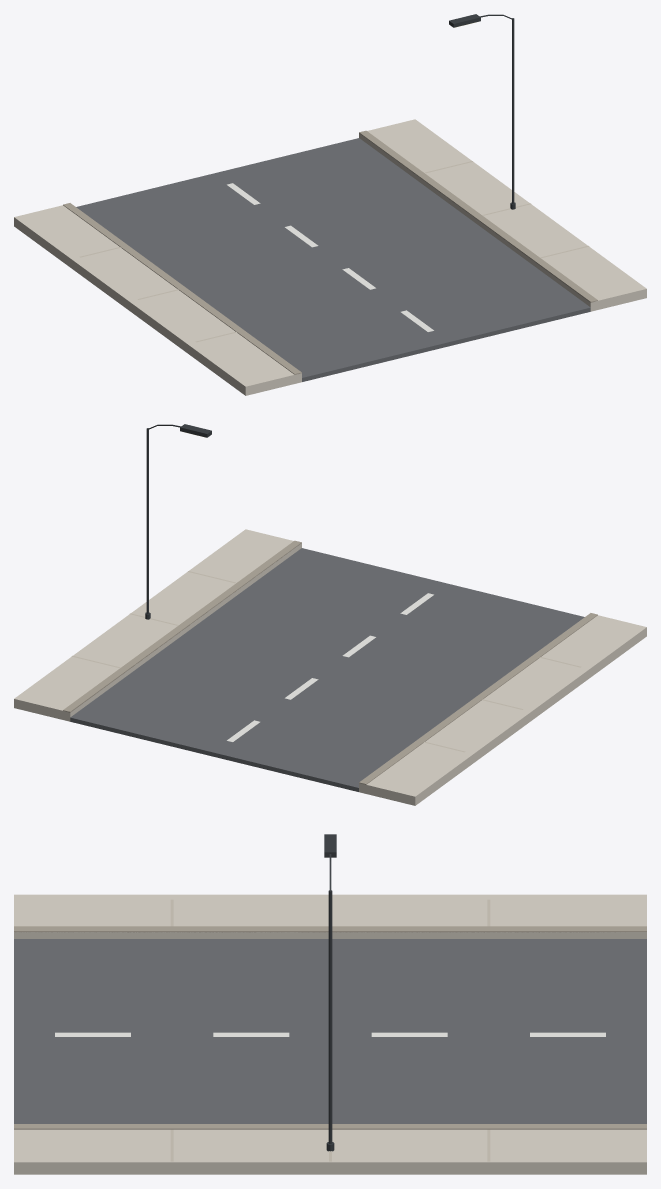
The model's file is Yol_lane_01_Hafif.fbx.
The picture shows the model from 3 angles, top to bottom: view 1: azimuth 30°, elevation 25°; view 2: azimuth 150°, elevation 25°; view 3: azimuth 270°, elevation 25°; orthographic projection. The views are drawn at different scales.
Parts seen in each view (by area): view 1: Yol_lane_01_Hafif; view 2: Yol_lane_01_Hafif; view 3: Yol_lane_01_Hafif.
Boxes of the visible parts, x1,y1,x2,y2 form: Yol_lane_01_Hafif: (14, 14, 646, 395); Yol_lane_01_Hafif: (14, 424, 646, 805); Yol_lane_01_Hafif: (14, 834, 646, 1174).
Bounding box in the file's own units: 10 × 5.01 × 10.
